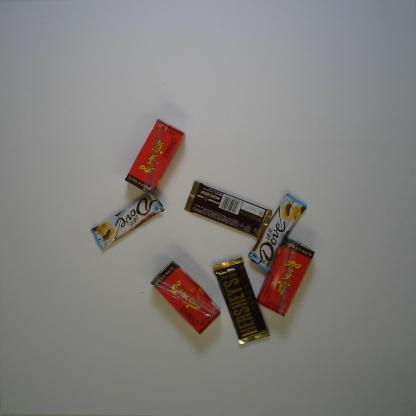Chocolate: (210, 254, 272, 352), (180, 179, 275, 241), (90, 188, 166, 254), (246, 192, 306, 272)
Drink: (149, 259, 220, 337), (255, 235, 316, 318), (122, 117, 184, 195)
